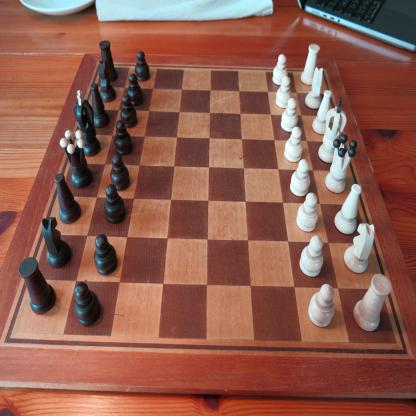black-bishop: (54, 173, 82, 225), (90, 82, 110, 130)
black-king: (72, 89, 102, 158)
black-knight: (42, 216, 71, 269), (98, 60, 116, 104)
black-pawn: (74, 280, 102, 326), (93, 233, 118, 276), (103, 183, 126, 225), (109, 152, 130, 192), (113, 119, 133, 157), (126, 72, 144, 108), (120, 93, 138, 129), (134, 50, 150, 82)
black-queen: (59, 129, 93, 190)
black-rook: (18, 256, 57, 316), (99, 39, 119, 84)
white-bishop: (334, 182, 362, 235), (312, 90, 332, 136)
white-king: (318, 97, 348, 164)
white-knight: (343, 222, 375, 275), (304, 66, 323, 110)
white-pawn: (308, 283, 335, 329), (299, 235, 324, 278), (296, 192, 318, 234), (289, 158, 311, 198), (284, 126, 303, 164), (280, 98, 299, 133), (275, 76, 292, 110), (272, 54, 288, 86)
white-queen: (325, 134, 357, 194)
white-rook: (353, 273, 392, 333), (300, 43, 320, 86)
